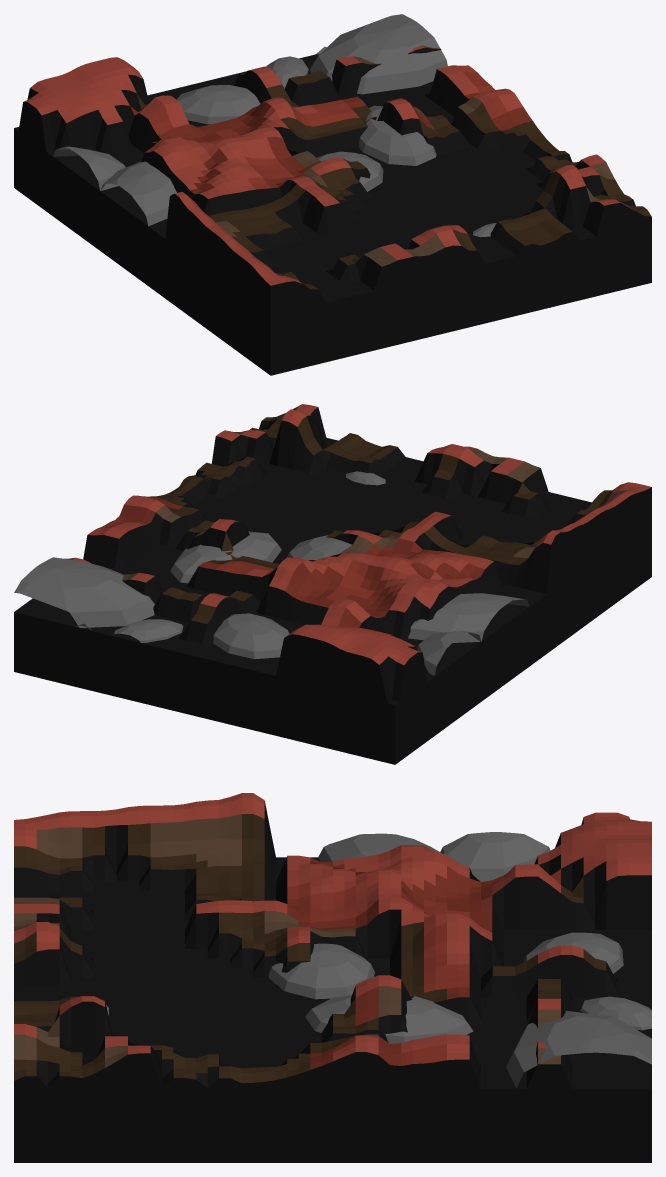
3 views of the same model, one above another, from view 1: azimuth 30°, elevation 25°; view 2: azimuth 150°, elevation 25°; view 3: azimuth 270°, elevation 25° (orthographic). The views are drawn at different scales.
Visible parts, largest first — view 1: shapesz-t160; view 2: shapesz-t160; view 3: shapesz-t160.
Boxes of the visible parts, left/top/right/bottom form: shapesz-t160: left=14, top=14, right=651, bottom=375; shapesz-t160: left=14, top=404, right=651, bottom=764; shapesz-t160: left=14, top=793, right=651, bottom=1162.
Bounding box in the file's own units: 2 × 0.56 × 2.33.
